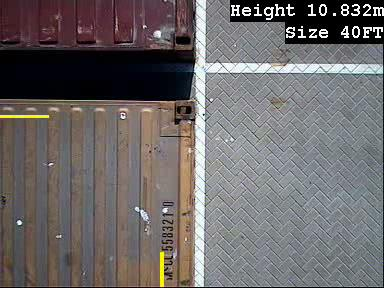groundmarker_2: (193, 39, 236, 94)
